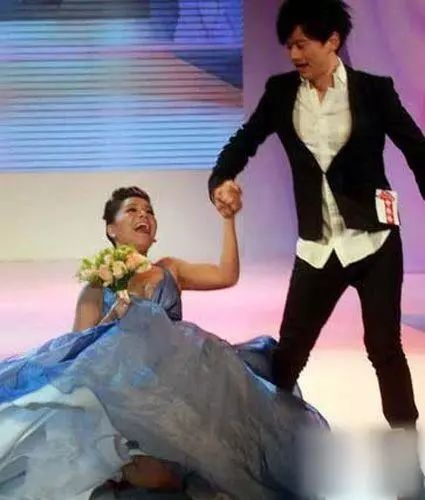falling: (4, 164, 375, 500)
